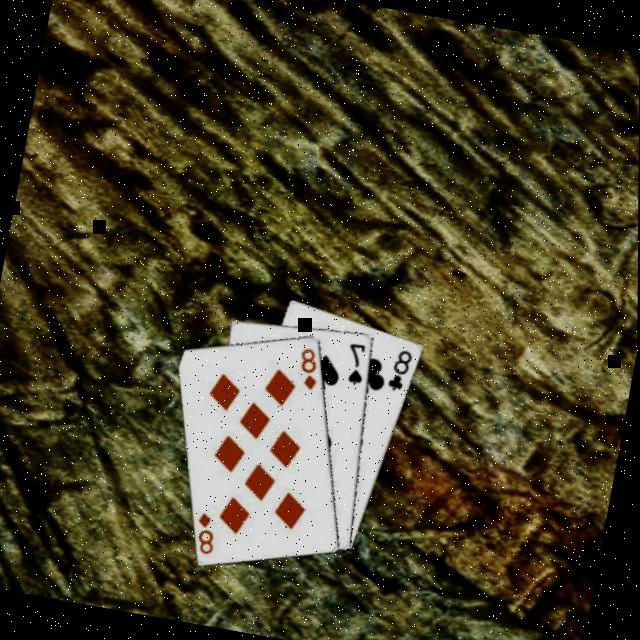7S: (342, 340, 373, 389)
8C: (385, 345, 418, 396)
8D: (294, 345, 328, 395), (191, 509, 224, 559)
